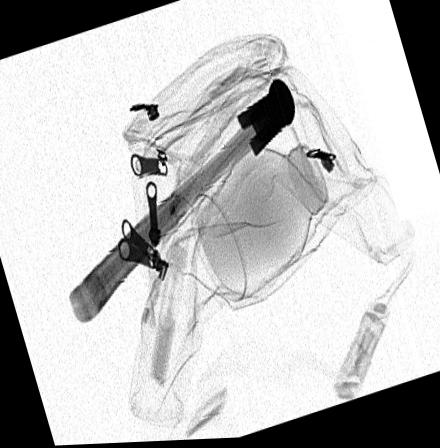Hammer: (68, 77, 296, 323)
